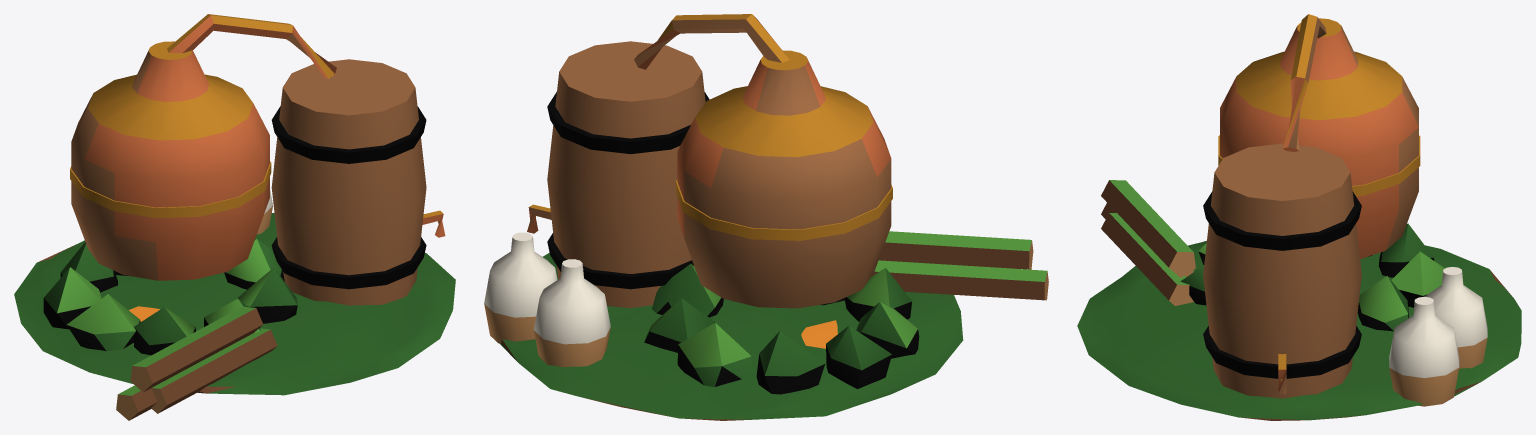
File: MoonshineStill.fbx
The picture shows the model from 3 angles, left to right: view 1: azimuth 30°, elevation 25°; view 2: azimuth 150°, elevation 25°; view 3: azimuth 270°, elevation 25°; orthographic projection. The views are drawn at different scales.
Visible parts, largest first — view 1: MoonshineStill; view 2: MoonshineStill; view 3: MoonshineStill.
Part boxes in pixels (x1,y1,x2,y2): MoonshineStill: [14, 14, 455, 420]; MoonshineStill: [484, 14, 1048, 420]; MoonshineStill: [1077, 14, 1521, 420].
Size of the model in its own units: 1.68 by 1.17 by 1.57.
2 materials, 2 textured.
